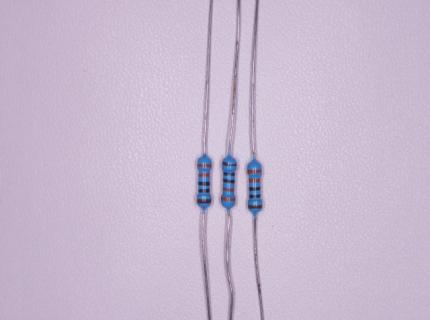Black band: (223, 178, 235, 183), (224, 171, 235, 176), (198, 189, 210, 193), (249, 187, 261, 191), (249, 194, 261, 198), (199, 182, 210, 186)
Brown band: (248, 204, 263, 209), (222, 161, 237, 166), (197, 198, 211, 203)
Orange band: (197, 163, 212, 168), (247, 169, 262, 174), (221, 196, 235, 201), (198, 172, 210, 177), (249, 178, 261, 183), (223, 187, 234, 192)
